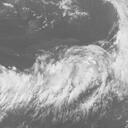cyclone: (44, 47, 114, 102)
